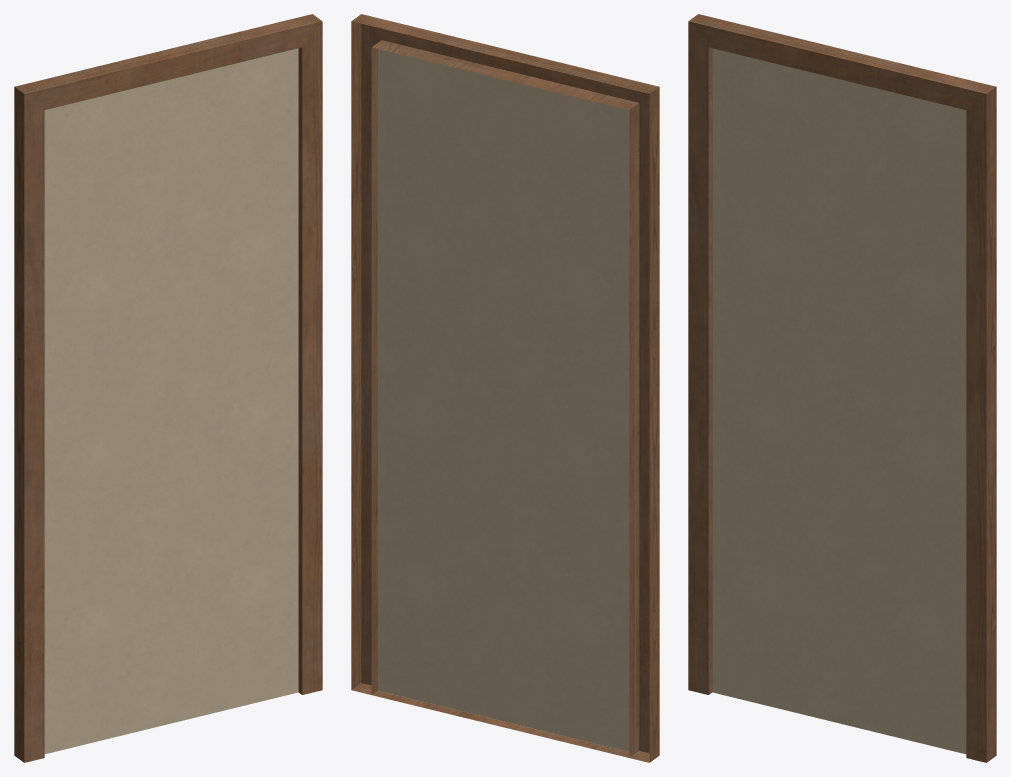
Rendered from Door_01.fbx.
The picture shows the model from 3 angles, left to right: view 1: azimuth 30°, elevation 25°; view 2: azimuth 150°, elevation 25°; view 3: azimuth 330°, elevation 25°; orthographic projection.
Parts seen in each view (by area): view 1: Door; view 2: Door; view 3: Door.
Part boxes in pixels (x1,y1,x2,y2): Door: [14, 14, 322, 762]; Door: [351, 14, 659, 762]; Door: [688, 14, 996, 762].
Bounding box in the file's own units: 69.42 × 149 × 4.
1 material, 1 textured.
